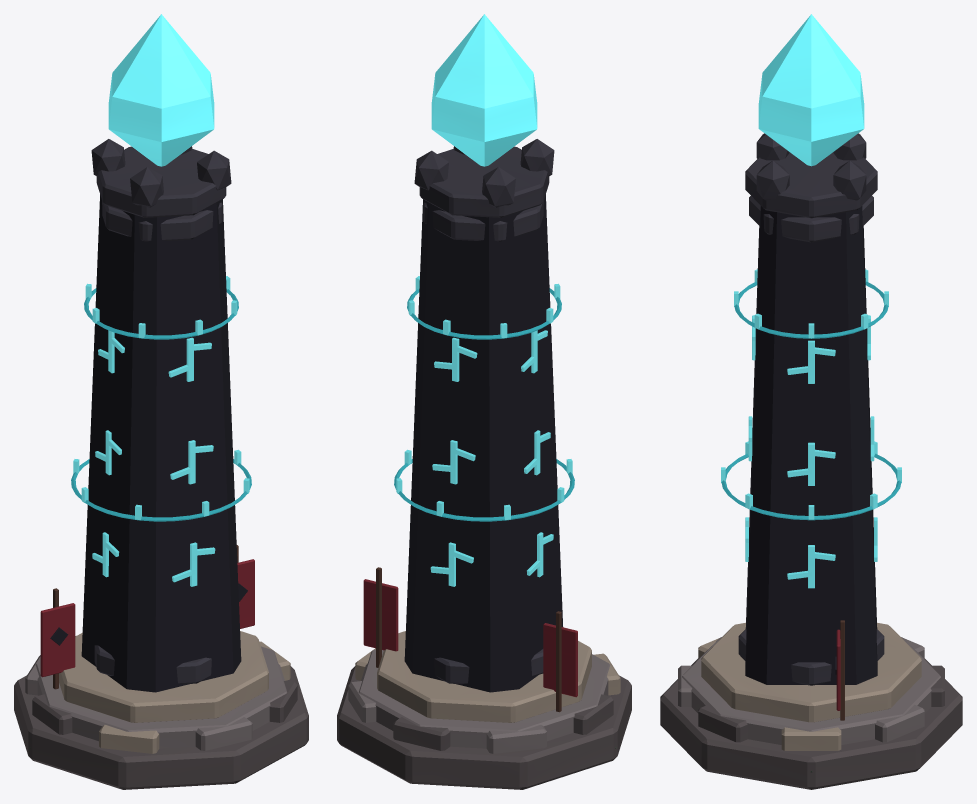
File: obelisk-DkganfYI.glb
3 renders of one model, left to right at view 1: azimuth 30°, elevation 25°; view 2: azimuth 150°, elevation 25°; view 3: azimuth 270°, elevation 25°, orthographic.
Visible parts, largest first — view 1: obelisk_l1_body, obelisk_l1_crystal, obelisk_l1_glow, ring_rune_1_mesh, ring_rune_2_mesh; view 2: obelisk_l1_body, obelisk_l1_crystal, obelisk_l1_glow, ring_rune_1_mesh, ring_rune_2_mesh; view 3: obelisk_l1_body, obelisk_l1_crystal, obelisk_l1_glow, ring_rune_1_mesh, ring_rune_2_mesh.
Boxes of the visible parts, x1,y1,x2,y2 form: obelisk_l1_body: [14, 139, 308, 789]; obelisk_l1_crystal: [108, 14, 214, 166]; obelisk_l1_glow: [92, 330, 215, 586]; ring_rune_1_mesh: [71, 449, 251, 521]; ring_rune_2_mesh: [84, 276, 238, 339]; obelisk_l1_body: [337, 139, 631, 789]; obelisk_l1_crystal: [431, 14, 537, 166]; obelisk_l1_glow: [430, 330, 553, 586]; ring_rune_1_mesh: [394, 449, 574, 521]; ring_rune_2_mesh: [407, 276, 561, 339]; obelisk_l1_body: [660, 133, 962, 789]; obelisk_l1_crystal: [758, 14, 864, 166]; obelisk_l1_glow: [745, 315, 877, 588]; ring_rune_1_mesh: [721, 441, 901, 520]; ring_rune_2_mesh: [734, 269, 888, 338].
Bounding box in the file's own units: 1.95 × 5.07 × 1.95.
3 materials, 3 textured.
